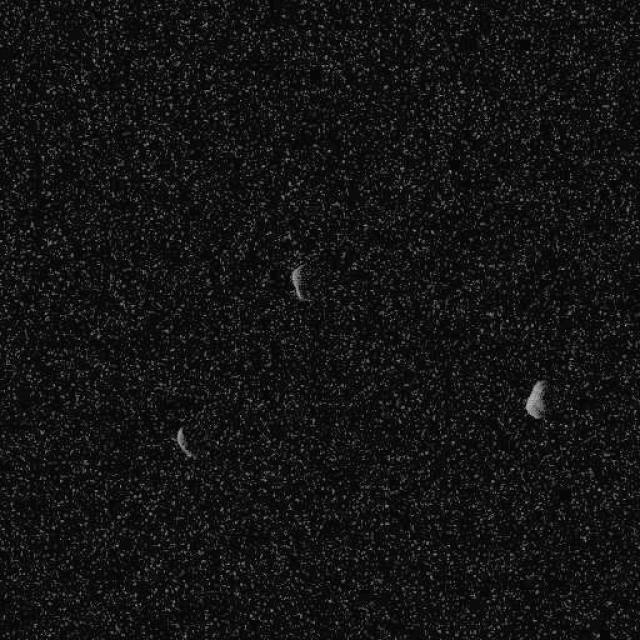D2: (524, 379, 546, 420), (289, 262, 310, 302), (174, 425, 195, 459)
